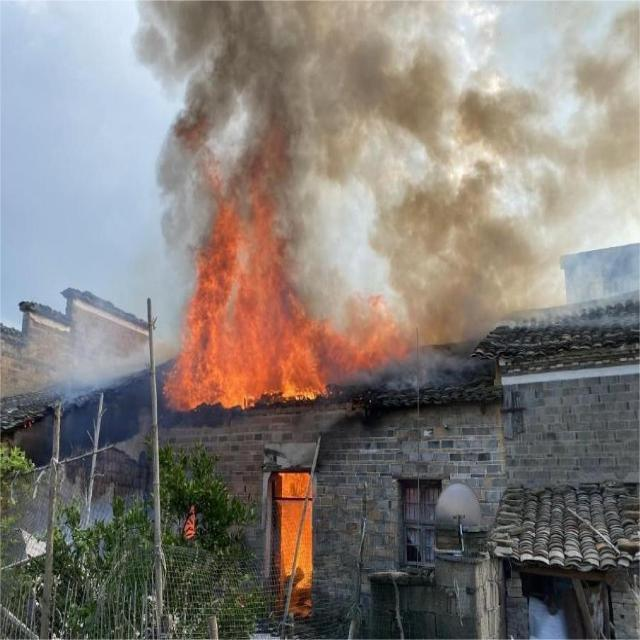Fire: (164, 212, 400, 412)
Smoke: (135, 0, 640, 206), (403, 208, 569, 349)
